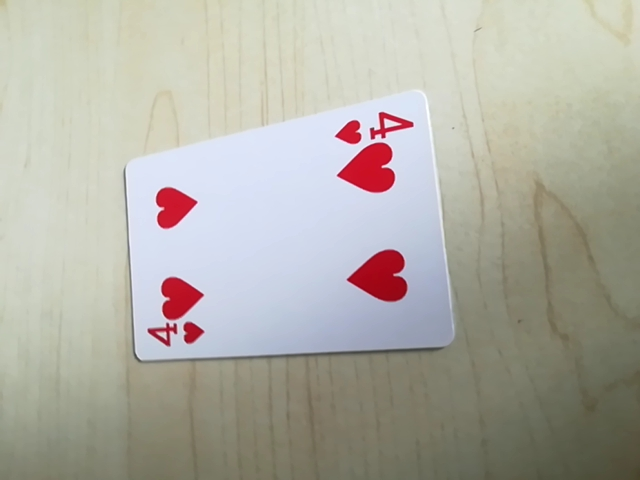hx 4: (332, 105, 415, 147), (142, 320, 208, 356)
